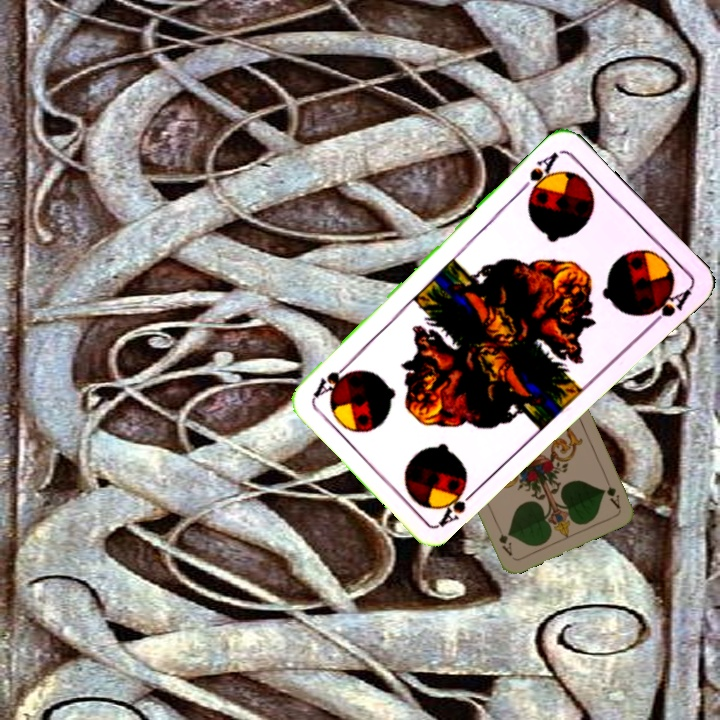GA: (600, 472, 623, 511)
SA: (516, 147, 562, 200), (434, 483, 483, 530)
